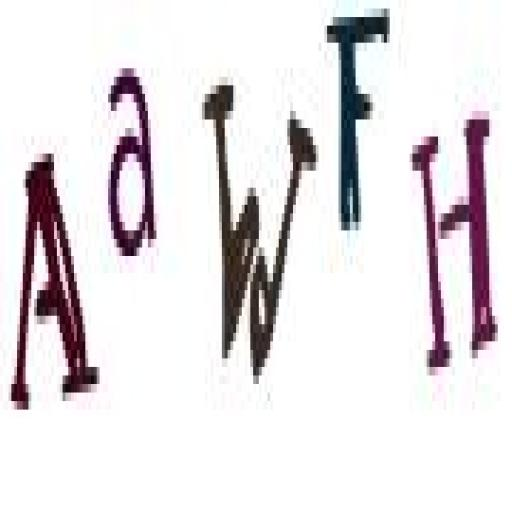A: (12, 134, 101, 430)
F: (322, 6, 394, 245)
H: (408, 100, 504, 381)
W: (199, 56, 321, 408)
a: (104, 62, 161, 267)
